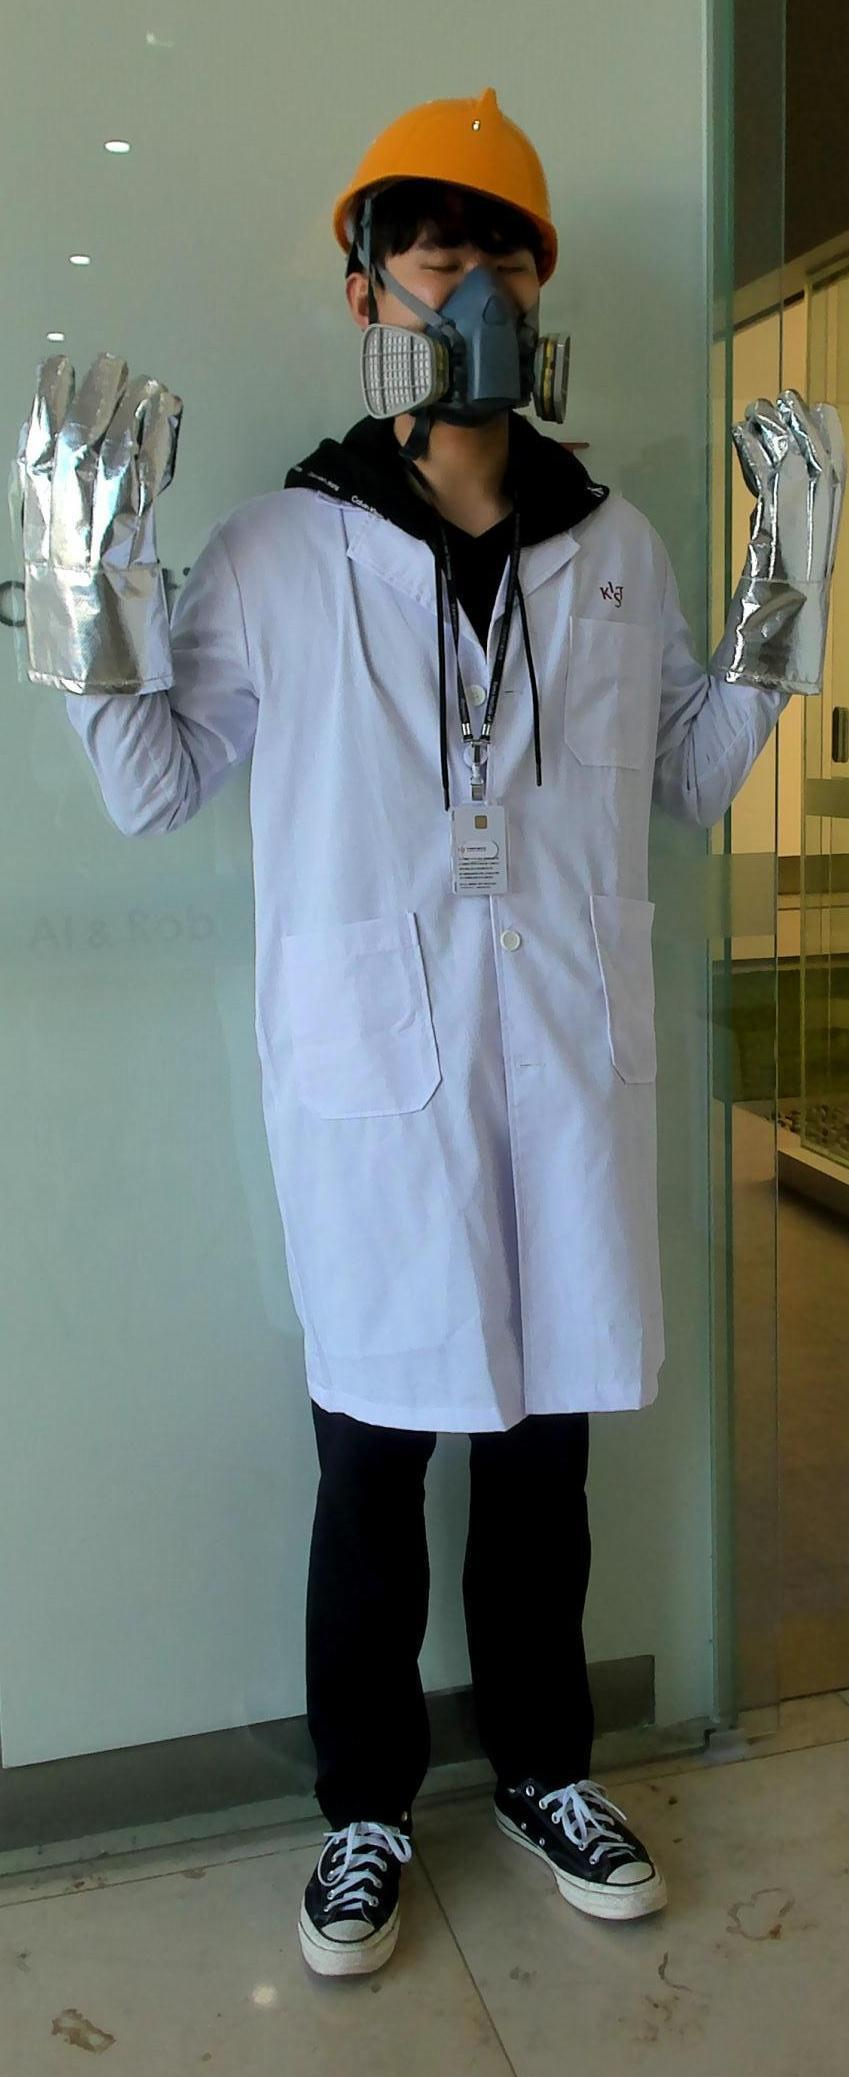lab_coat: (215, 517, 701, 1424)
